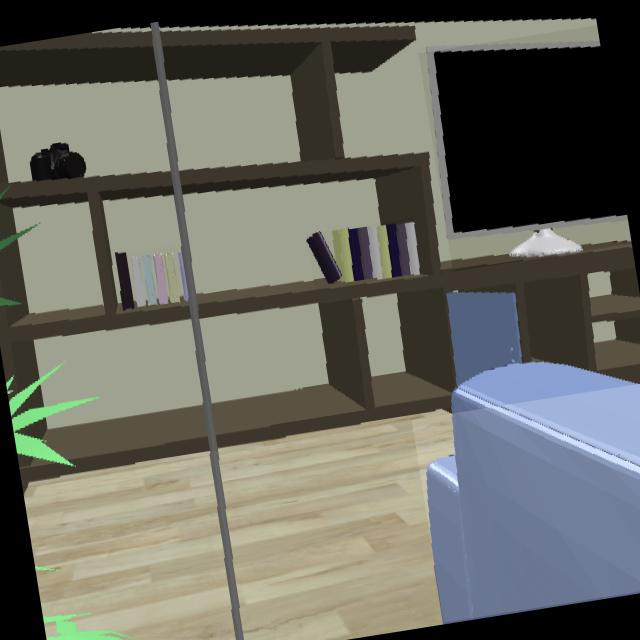book: (307, 223, 421, 285), (119, 253, 184, 309)
bookshelf: (0, 26, 640, 460)
monitor: (428, 45, 628, 256)
sofa: (428, 364, 640, 623)
